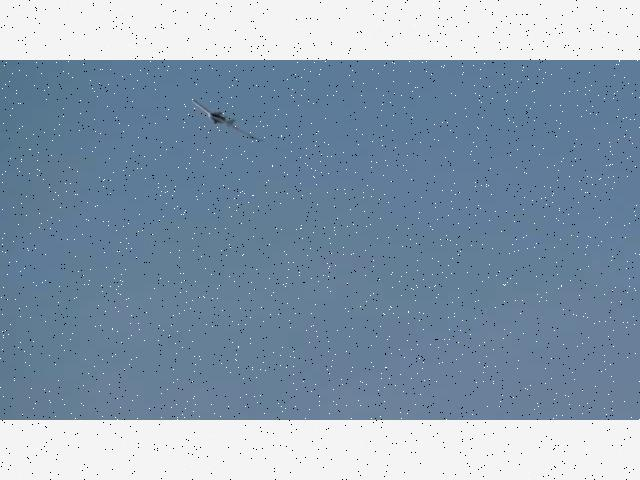Anti-Drone: (192, 99, 262, 141)
